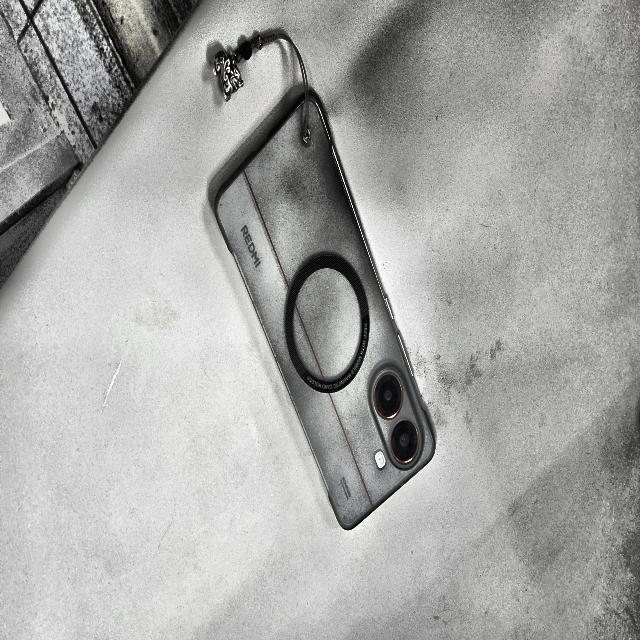PHONE: (215, 93, 434, 528)
